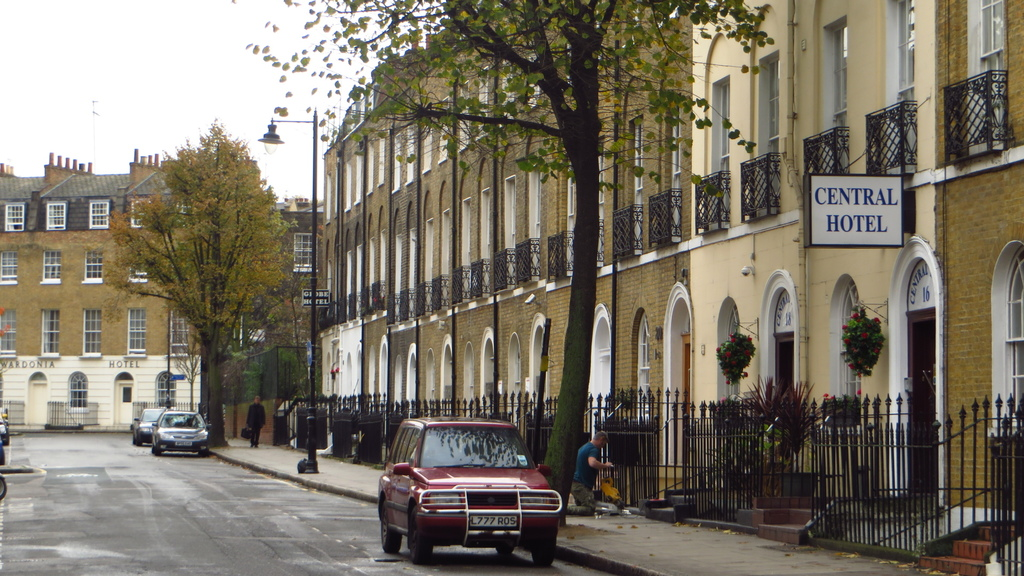Car: (374, 417, 563, 561), (154, 412, 208, 455), (129, 405, 168, 448)
